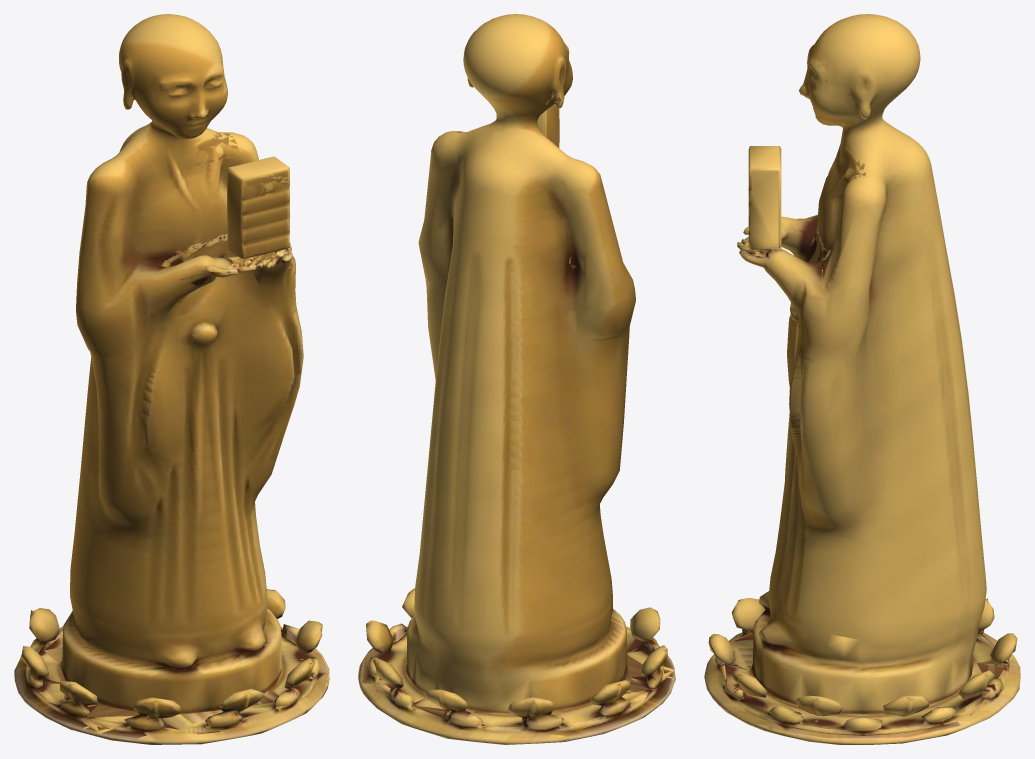
Rendered from anan.glb.
3 renders of one model, left to right at view 1: azimuth 30°, elevation 25°; view 2: azimuth 150°, elevation 25°; view 3: azimuth 270°, elevation 25°, orthographic.
Parts seen in each view (by area): view 1: anan; view 2: anan; view 3: anan.
Part boxes in pixels (x1=…): anan: x1=14, y1=14, x2=329, y2=744; anan: x1=358, y1=14, x2=675, y2=744; anan: x1=704, y1=14, x2=1020, y2=744.
Bounding box in the file's own units: 0.8719 × 2.01 × 0.8703.
Materials: 1 (1 with a texture image).
